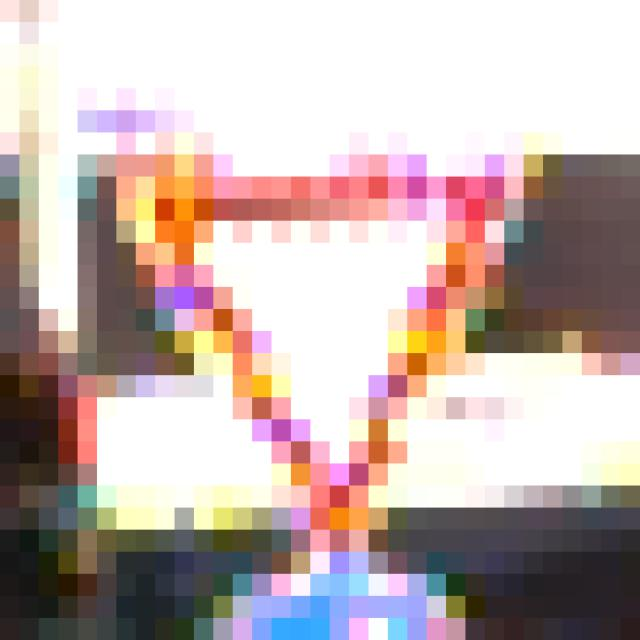Give Way: (98, 134, 544, 531)
